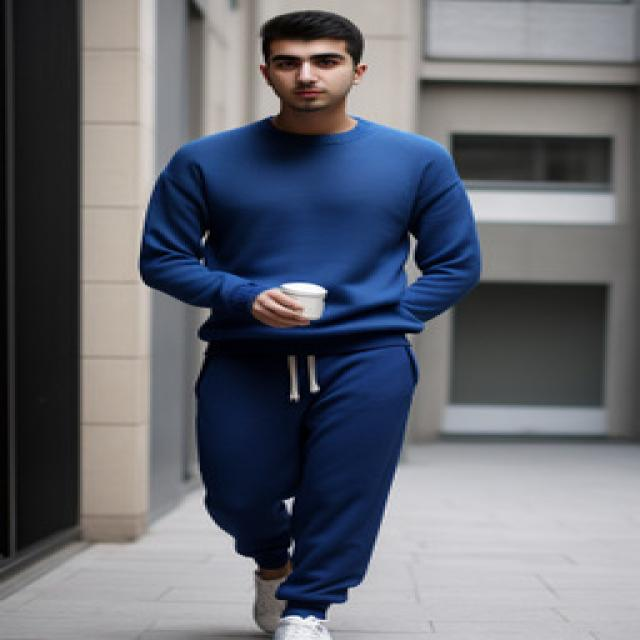Ai human 2: (134, 3, 482, 640)
